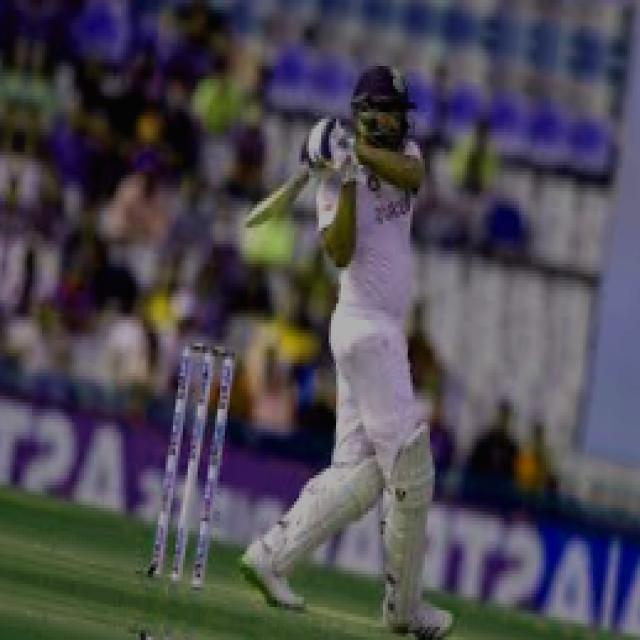toe: (240, 205, 271, 234)
